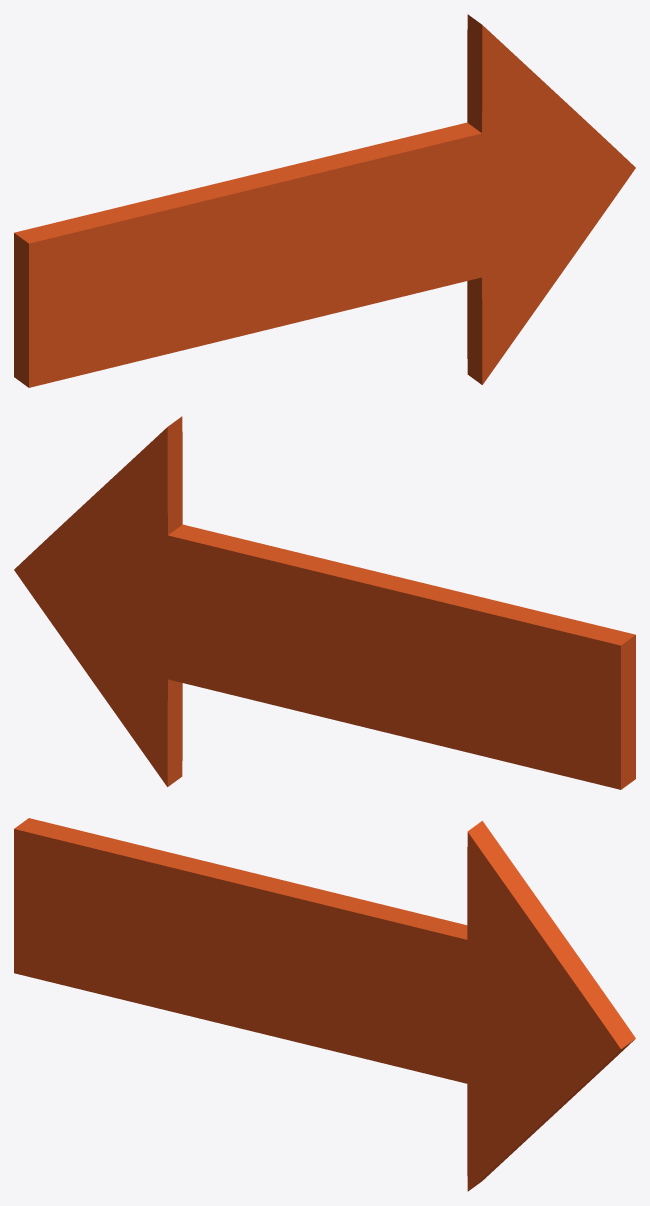
File: tinker.obj
3 renders of one model, top to bottom at view 1: azimuth 30°, elevation 25°; view 2: azimuth 150°, elevation 25°; view 3: azimuth 330°, elevation 25°, orthographic.
Parts seen in each view (by area): view 1: obj_0; view 2: obj_0; view 3: obj_0.
Part boxes in pixels (x1,y1,x2,y2): obj_0: (14, 14, 635, 387); obj_0: (14, 416, 635, 789); obj_0: (14, 818, 635, 1191).
Bounding box in the file's own units: 47 × 26.66 × 2.
